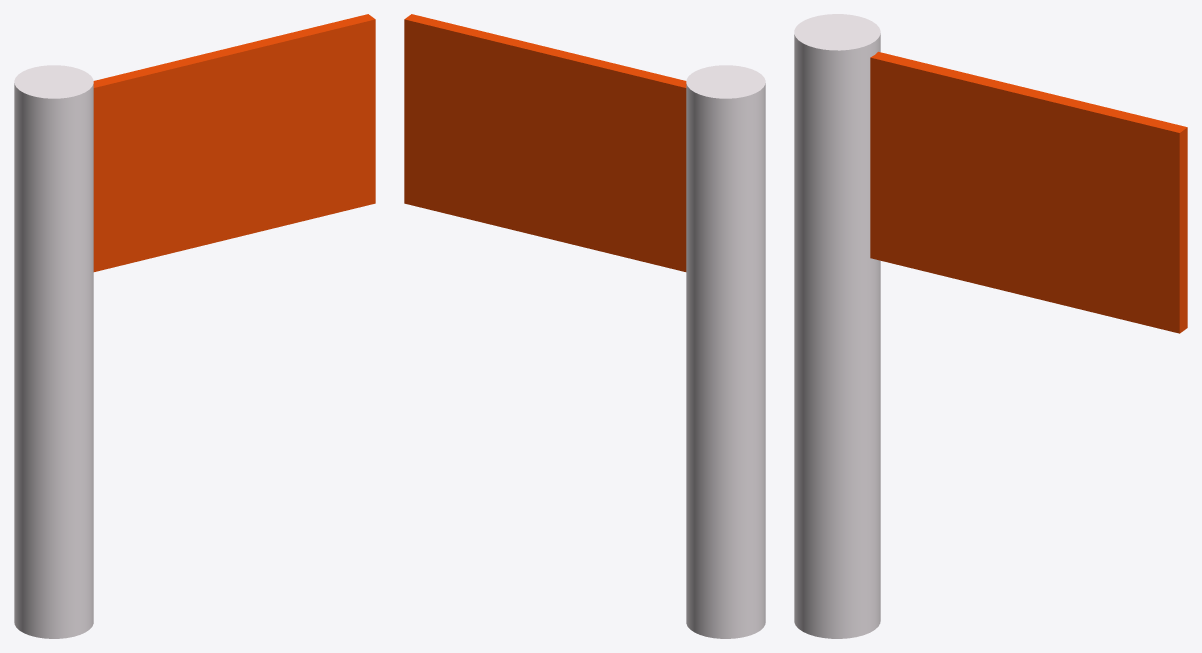
File: Flag.fbx
The picture shows the model from 3 angles, left to right: view 1: azimuth 30°, elevation 25°; view 2: azimuth 150°, elevation 25°; view 3: azimuth 330°, elevation 25°; orthographic projection. The views are drawn at different scales.
Visible parts, largest first — view 1: Flag; view 2: Flag; view 3: Flag.
Part boxes in pixels (x1,y1,x2,y2): Flag: (14, 14, 375, 638); Flag: (404, 14, 765, 638); Flag: (794, 14, 1187, 638).
Size of the model in its own units: 137 by 200 by 26.68.
